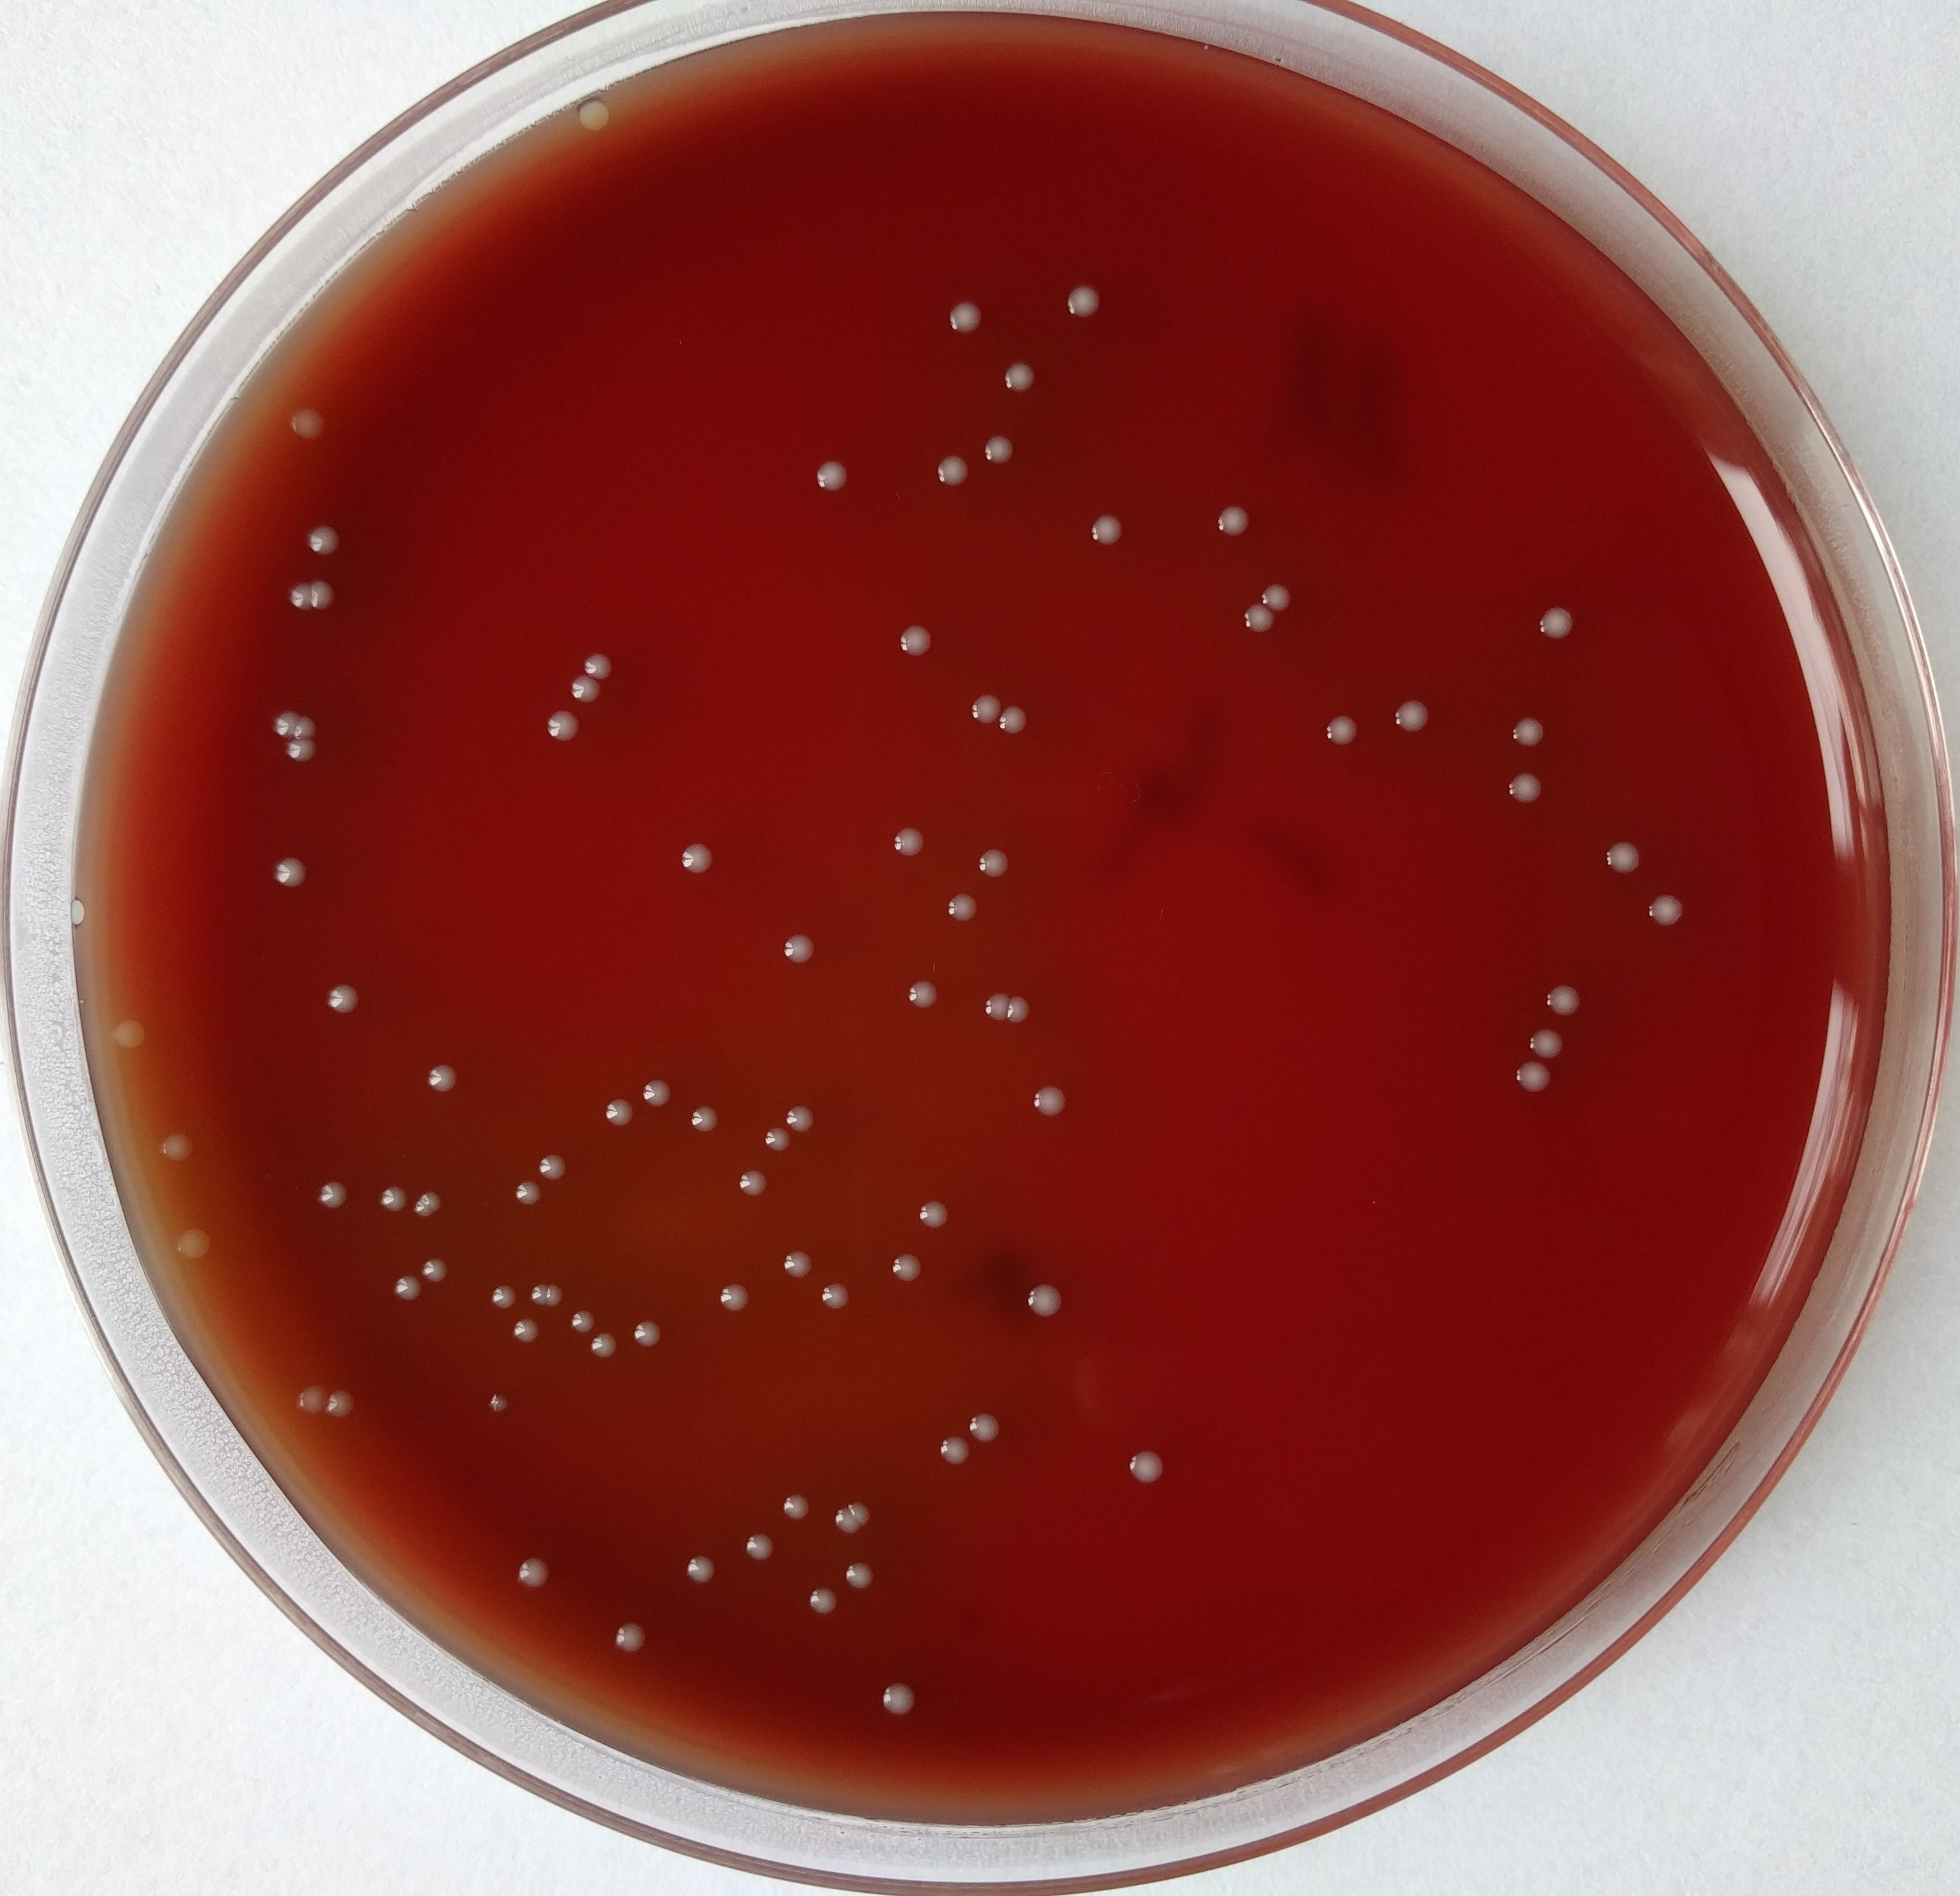sp24: (926, 277, 1006, 340), (1020, 1071, 1085, 1140), (1589, 828, 1648, 886), (563, 88, 628, 140), (934, 875, 992, 928), (1503, 704, 1559, 756), (931, 1416, 983, 1472), (1017, 1268, 1069, 1324), (1055, 275, 1116, 322), (1521, 1019, 1578, 1068), (896, 968, 945, 1026), (1526, 597, 1587, 643), (975, 420, 1027, 473), (884, 1239, 936, 1292), (989, 357, 1053, 399), (1377, 693, 1442, 735), (1123, 1439, 1174, 1492), (805, 452, 859, 501), (1536, 977, 1591, 1026), (770, 930, 824, 979), (969, 832, 1015, 889), (908, 1185, 961, 1234), (1073, 506, 1129, 551), (317, 1376, 364, 1429), (770, 1238, 822, 1285), (285, 401, 334, 450), (875, 1674, 922, 1724), (1503, 1056, 1559, 1098), (609, 1611, 654, 1661), (558, 667, 612, 709), (530, 1145, 576, 1194), (320, 973, 366, 1022), (504, 1549, 553, 1595), (1239, 588, 1281, 641), (1498, 765, 1550, 807), (469, 1380, 521, 1422), (1213, 499, 1253, 553), (894, 613, 941, 658), (926, 448, 976, 490), (539, 702, 584, 748), (754, 1117, 800, 1162), (814, 1275, 859, 1320), (1638, 888, 1685, 931), (1325, 704, 1367, 753), (406, 1176, 448, 1225), (289, 1369, 325, 1425), (679, 1541, 721, 1590), (801, 1576, 843, 1625), (311, 1169, 350, 1222), (175, 1218, 217, 1266), (770, 1483, 819, 1523), (712, 1275, 752, 1324), (992, 699, 1038, 741), (574, 639, 619, 681), (621, 1310, 663, 1355), (413, 1248, 455, 1294), (742, 1521, 780, 1570), (962, 686, 1006, 728), (884, 821, 926, 865), (108, 1012, 149, 1057), (679, 835, 714, 886), (962, 1404, 1006, 1444), (422, 1054, 462, 1098), (1251, 576, 1297, 614), (299, 518, 345, 557), (581, 1325, 626, 1364), (562, 1299, 600, 1345), (779, 1101, 824, 1140), (266, 851, 310, 889), (152, 1126, 198, 1162), (637, 1071, 677, 1112), (387, 1266, 425, 1308), (836, 1556, 878, 1595), (485, 1275, 525, 1313), (595, 1091, 635, 1129), (978, 984, 1018, 1022), (262, 704, 303, 741), (1004, 989, 1039, 1031), (730, 1168, 775, 1199), (299, 578, 338, 614), (374, 1180, 411, 1218), (511, 1169, 546, 1210), (691, 1101, 724, 1143), (847, 1493, 882, 1532), (280, 578, 315, 614), (828, 1502, 859, 1542), (285, 711, 322, 744), (282, 734, 322, 763), (507, 1313, 541, 1348), (520, 1271, 546, 1313), (539, 1275, 569, 1311)
